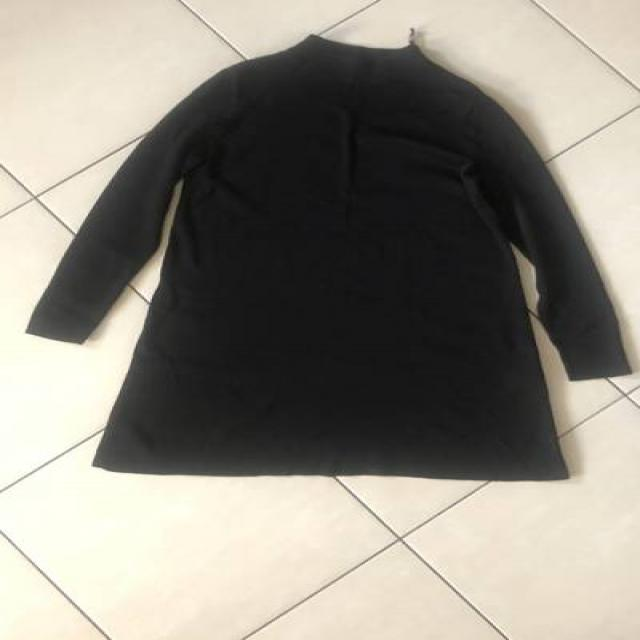Clothes -Biodegradable-: (26, 37, 635, 482)
